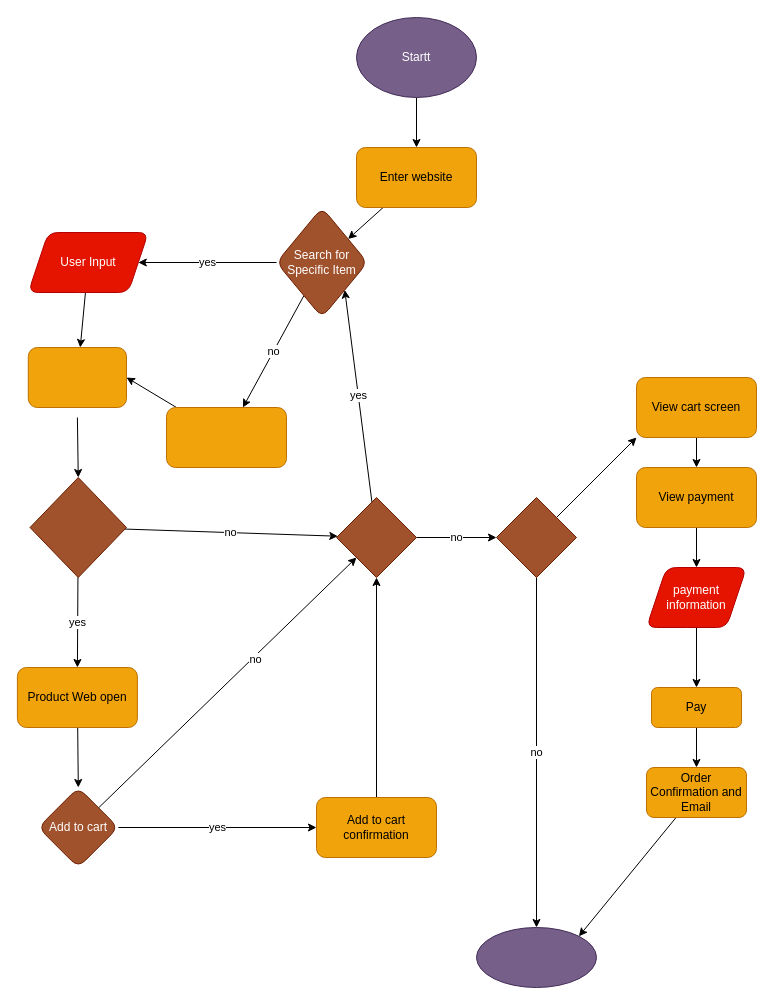
Some shapes in this 775 by 1005 pixel diagram are drawn without their labels. The shapes that lost their labels are listed below. From the top down, each one's box as (x1, y1, x2, y2) in pixels, then its label:
(27, 346, 126, 408): Looking for product
(166, 406, 286, 468): Explore in home page
(29, 476, 126, 578): Review specific product
(336, 496, 416, 578): Continue shopping
(496, 496, 576, 578): Checkout
(476, 926, 596, 988): Leave Web
